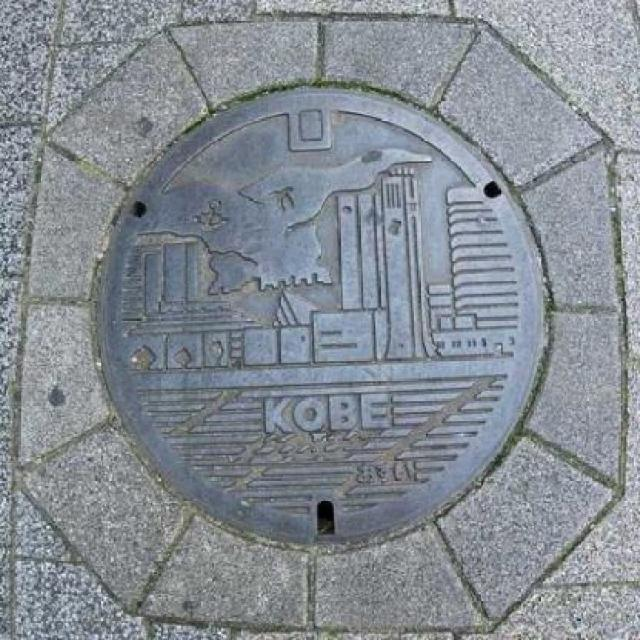Manhole: (80, 70, 568, 562)
